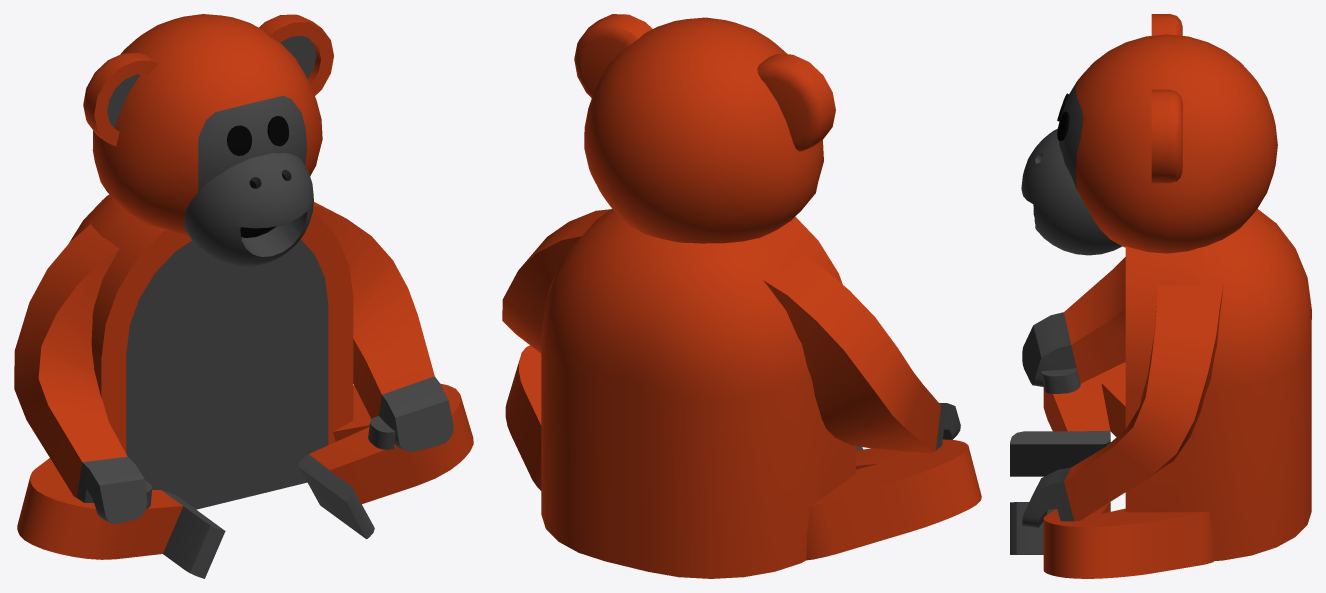
The model's file is Orangutan.gltf.
3 renders of one model, left to right at view 1: azimuth 30°, elevation 25°; view 2: azimuth 150°, elevation 25°; view 3: azimuth 270°, elevation 25°, orthographic. The views are drawn at different scales.
Visible parts, largest first — view 1: Cube.6151; view 2: Cube.6151; view 3: Cube.6151.
Part boxes in pixels (box(x1,y1,x2,y2)): Cube.6151: box(14, 14, 473, 578); Cube.6151: box(502, 14, 981, 578); Cube.6151: box(1010, 14, 1311, 578).
Bounding box in the file's own units: 1.76 × 1.81 × 1.05.
1 material, 1 textured.
